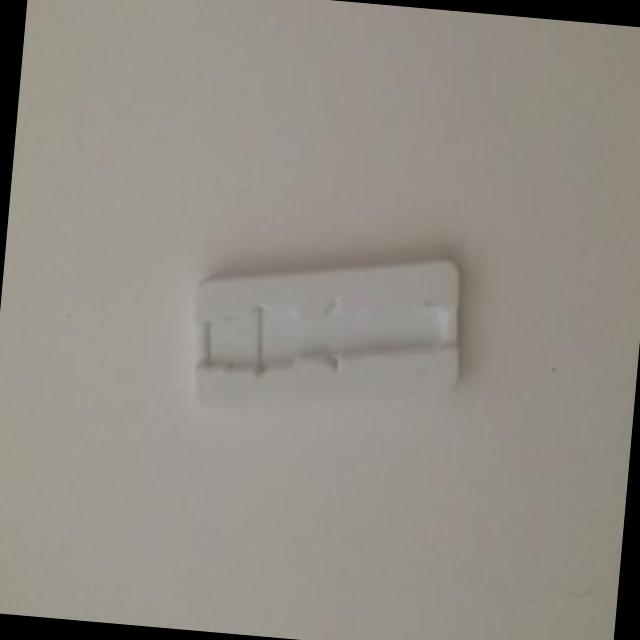Recycle: (184, 235, 476, 436)
